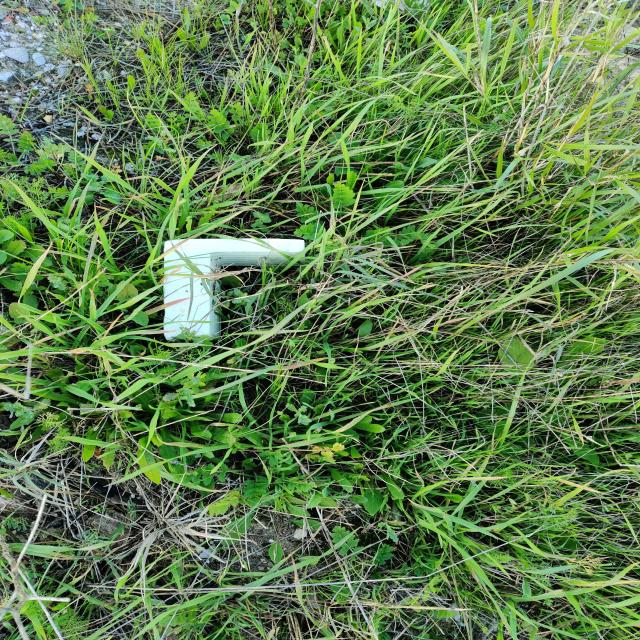litter: (153, 230, 326, 364)
